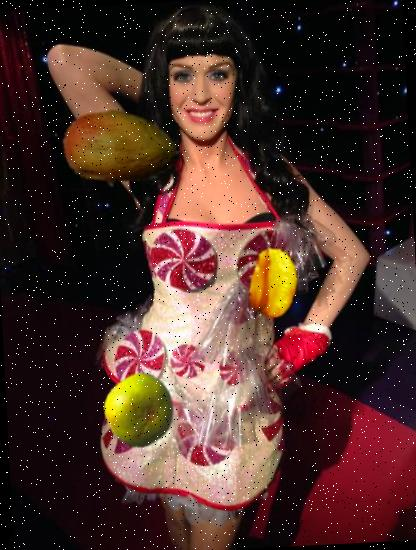Carambula: (235, 246, 310, 320)
Papaya: (60, 88, 183, 210)
Pomelo: (100, 370, 179, 449)
